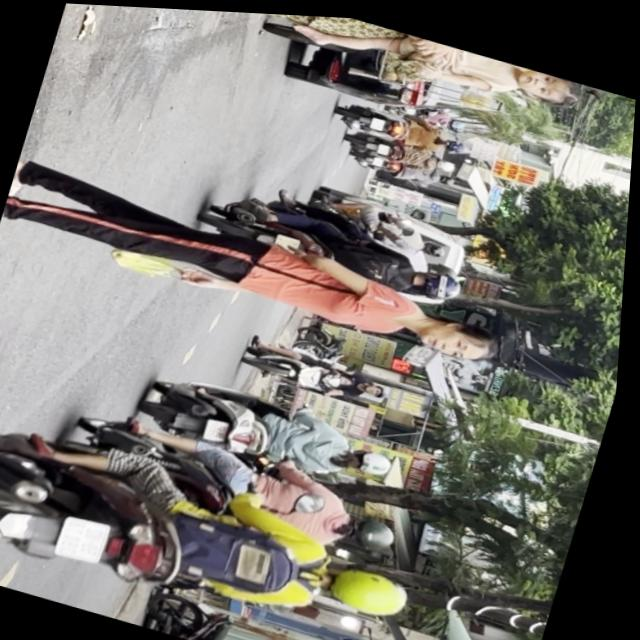helmet: (322, 552, 423, 621), (345, 505, 409, 552), (413, 260, 470, 300), (347, 439, 401, 476)
licenseplate: (0, 399, 443, 640), (55, 398, 424, 562), (195, 170, 484, 306), (135, 360, 411, 494)
nohelmet: (63, 512, 119, 564), (208, 414, 236, 442)
